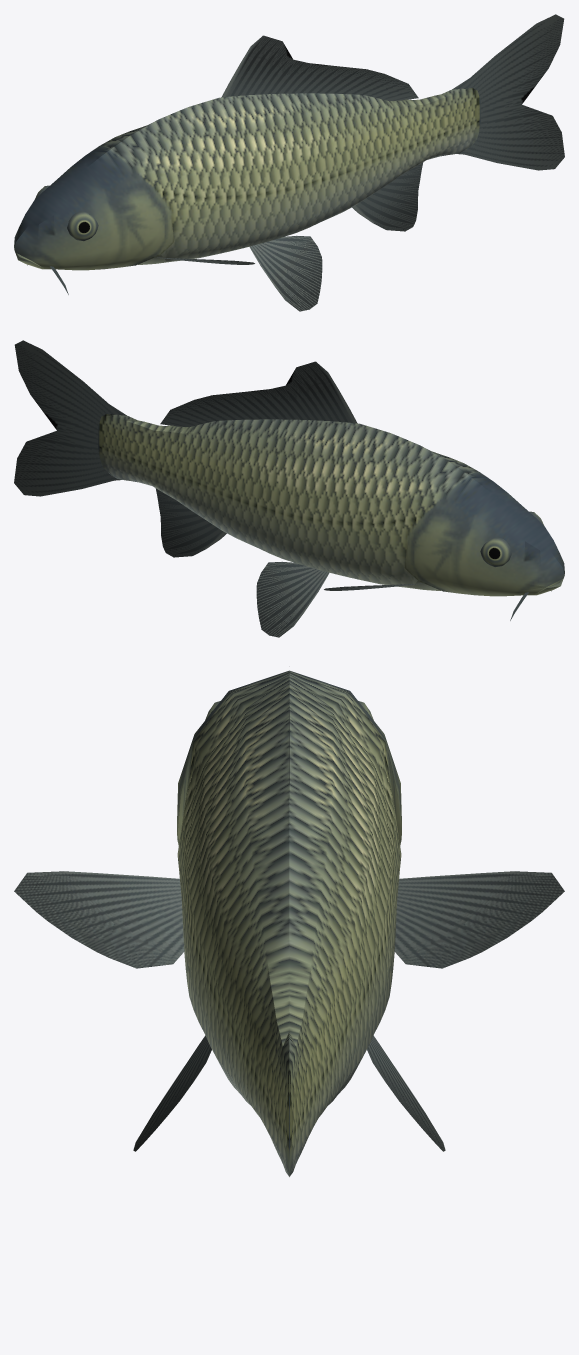
The model's file is koifish.fbx.
3 renders of one model, top to bottom at view 1: azimuth 30°, elevation 25°; view 2: azimuth 150°, elevation 25°; view 3: azimuth 270°, elevation 25°, orthographic. The views are drawn at different scales.
Parts seen in each view (by area): view 1: object, object8, object2, object5, object7, object9; view 2: object, object8, object2, object6, object7, object10; view 3: object, object3, object4, object5, object6.
Part boxes in pixels (left/top/right/bottom): object: left=14, top=88, right=480, bottom=270; object8: left=452, top=14, right=564, bottom=170; object2: left=221, top=35, right=418, bottom=100; object5: left=249, top=235, right=322, bottom=311; object7: left=352, top=162, right=423, bottom=231; object9: left=67, top=211, right=98, bottom=241; object: left=98, top=414, right=564, bottom=596; object8: left=14, top=340, right=126, bottom=496; object2: left=160, top=361, right=357, bottom=426; object6: left=256, top=561, right=329, bottom=637; object7: left=155, top=488, right=226, bottom=557; object10: left=480, top=537, right=511, bottom=567; object: left=177, top=670, right=401, bottom=1176; object3: left=14, top=871, right=184, bottom=968; object4: left=394, top=871, right=564, bottom=968; object5: left=133, top=1035, right=211, bottom=1151; object6: left=367, top=1035, right=445, bottom=1151.
Size of the model in its own units: 101 by 43.43 by 45.29.
2 materials, 2 textured.
